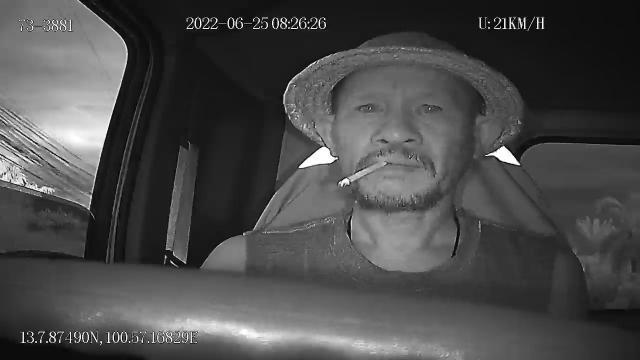SafeDriving: (408, 93, 448, 120), (348, 93, 388, 118)
Smoking: (339, 158, 386, 190)
